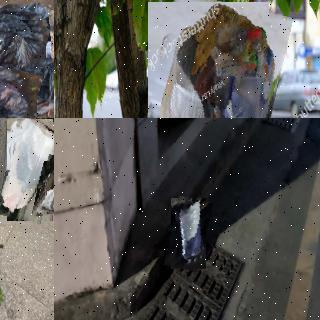Garbage: (135, 0, 281, 118), (1, 118, 54, 222), (167, 197, 210, 271), (0, 16, 47, 70), (0, 59, 40, 118), (39, 156, 54, 216)
